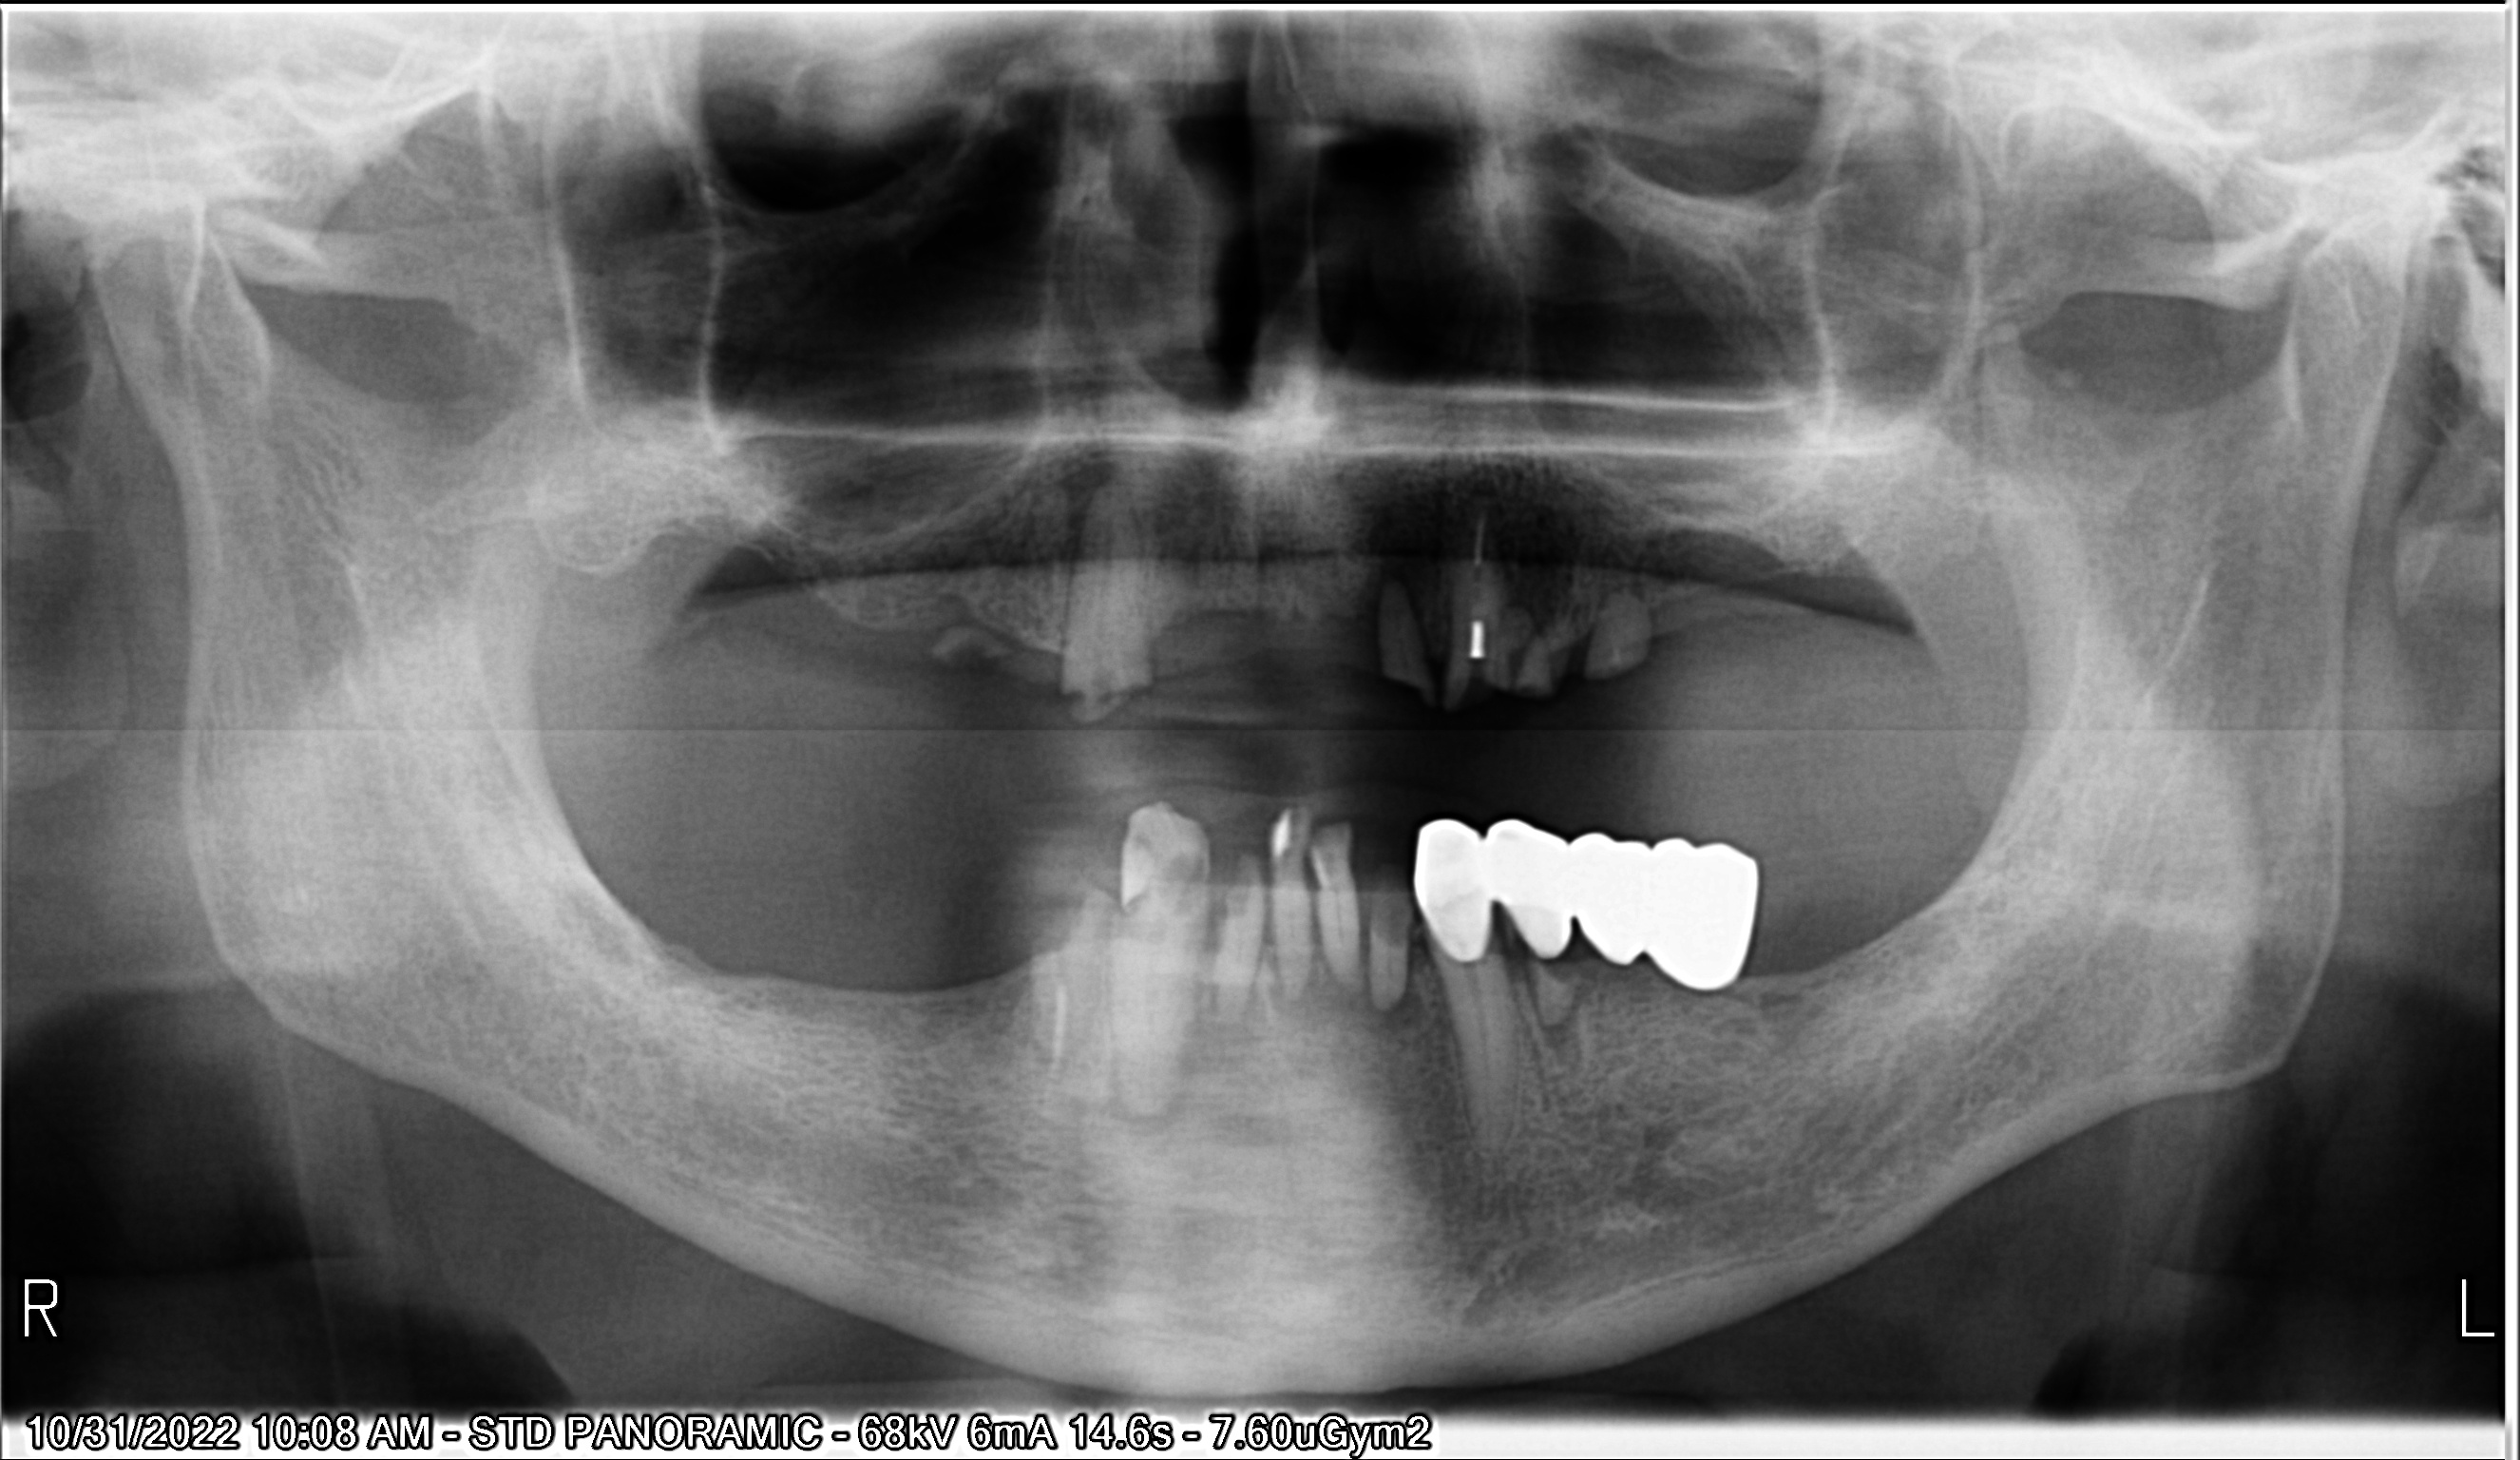API: (1176, 982, 1268, 1105), (1518, 1003, 1619, 1102), (1360, 987, 1433, 1052), (1268, 963, 1329, 1039)
CAR: (1145, 841, 1205, 932), (1521, 919, 1598, 984), (1099, 879, 1157, 937)
OBT: (1101, 789, 1195, 914), (1268, 800, 1303, 860)
PRR: (1422, 796, 1806, 996)
ROT: (1019, 474, 1171, 747), (981, 892, 1122, 1090), (1207, 824, 1292, 1038), (1363, 852, 1443, 1020), (1445, 530, 1520, 709), (1306, 808, 1375, 980), (908, 586, 1016, 695), (1582, 574, 1681, 692), (1511, 617, 1575, 704)
